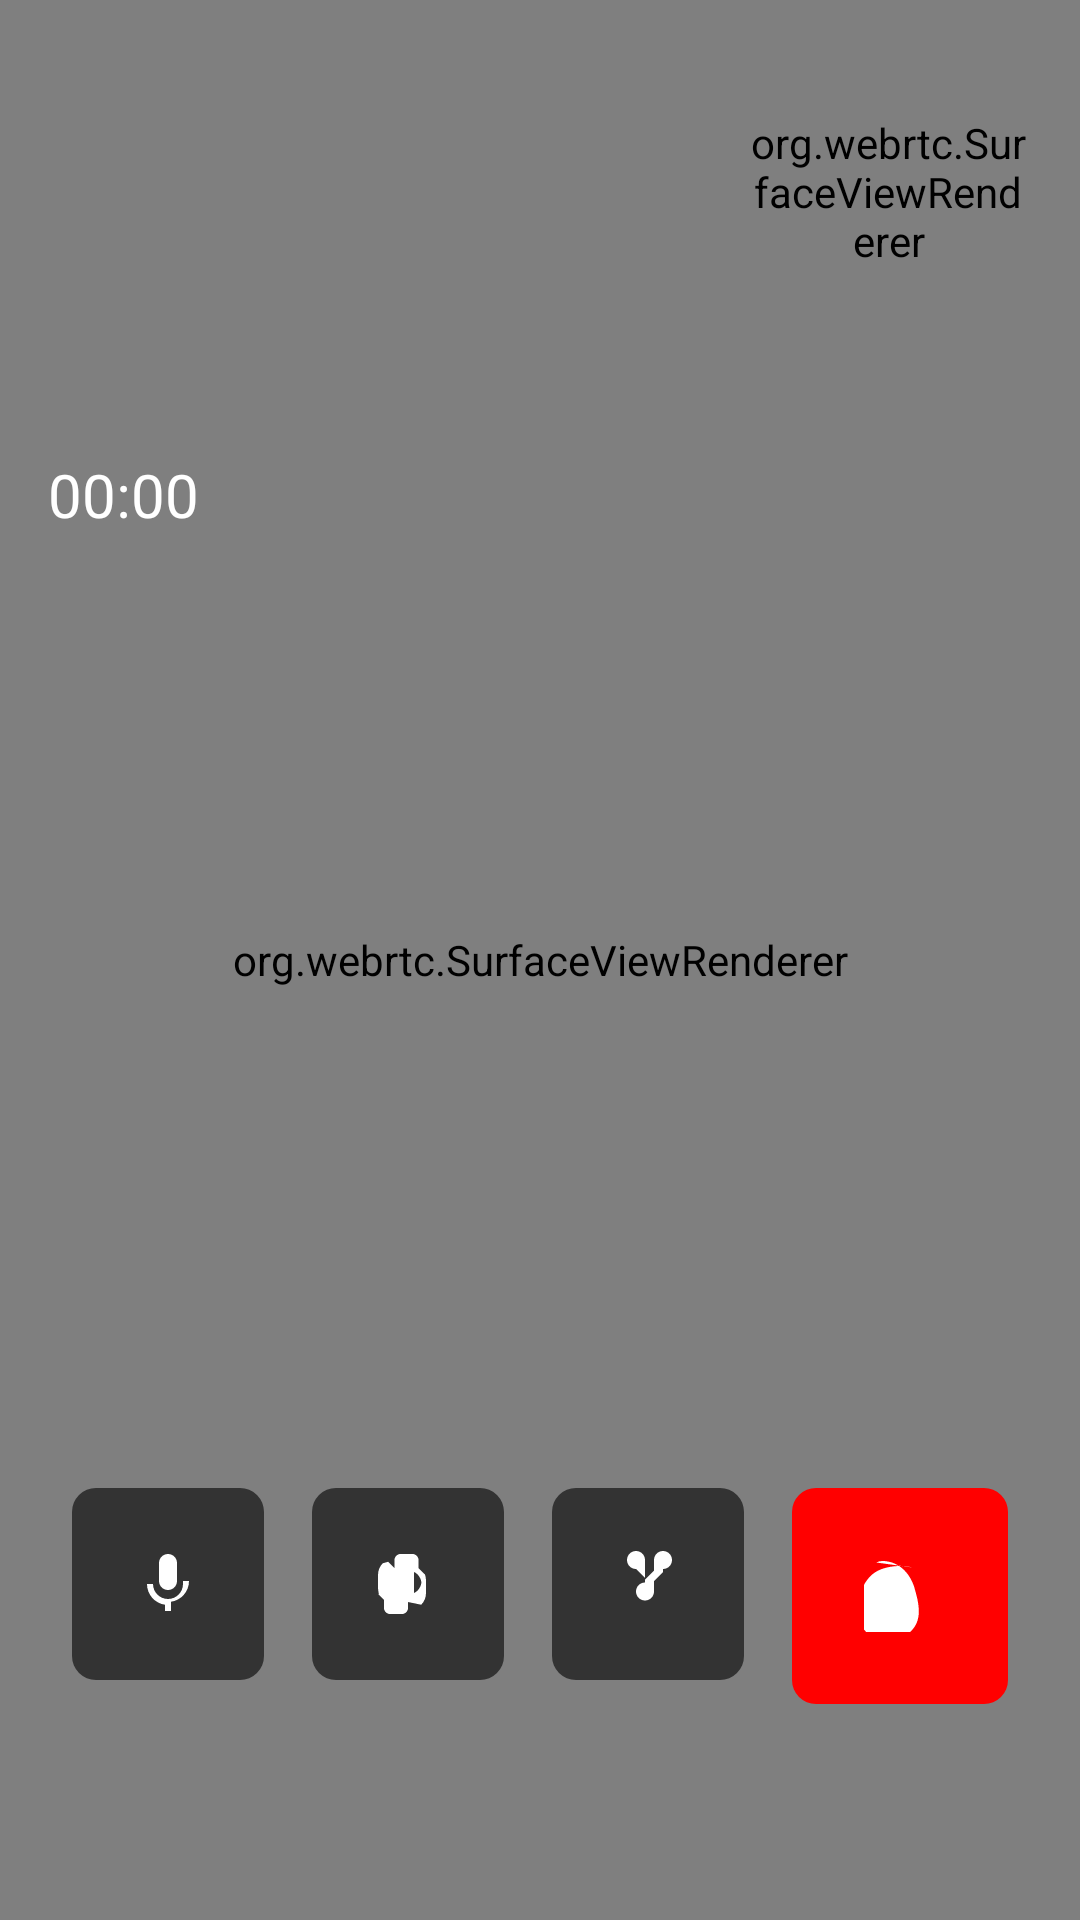

Icon bounding boxes for this 1080×1920 phone screenshot, format (x1, y1, x2, y2):
mic: (72, 1488, 264, 1680)
